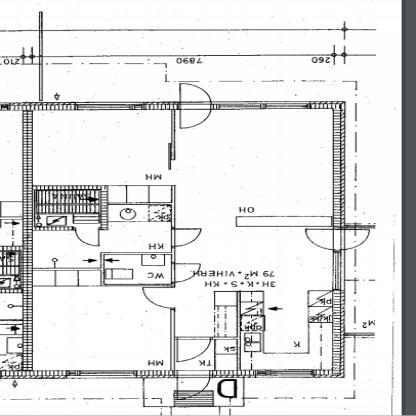bathroom: (105, 254, 174, 286)
door: (175, 81, 215, 130), (297, 229, 377, 252), (171, 369, 218, 402), (170, 338, 215, 365), (139, 286, 180, 312), (167, 262, 206, 287), (67, 224, 105, 249), (167, 225, 203, 251)
perimeter: (21, 104, 351, 376)
window: (216, 98, 314, 113), (66, 99, 152, 116), (251, 365, 324, 383), (60, 367, 142, 383), (324, 249, 349, 294)
